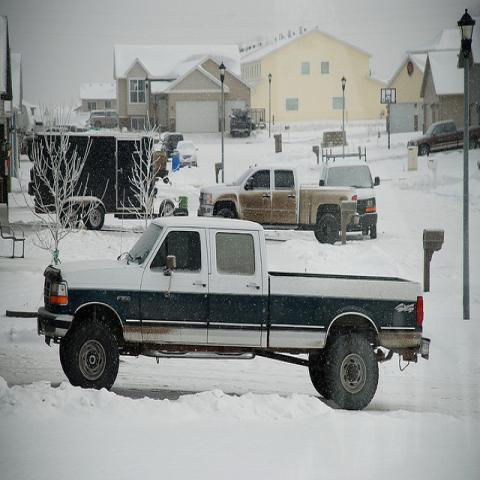car: (318, 161, 379, 215), (173, 141, 198, 168), (159, 132, 185, 155)
truck: (38, 211, 426, 414), (197, 164, 360, 244), (28, 130, 152, 230), (407, 121, 479, 158), (84, 109, 118, 128), (228, 109, 250, 137)
